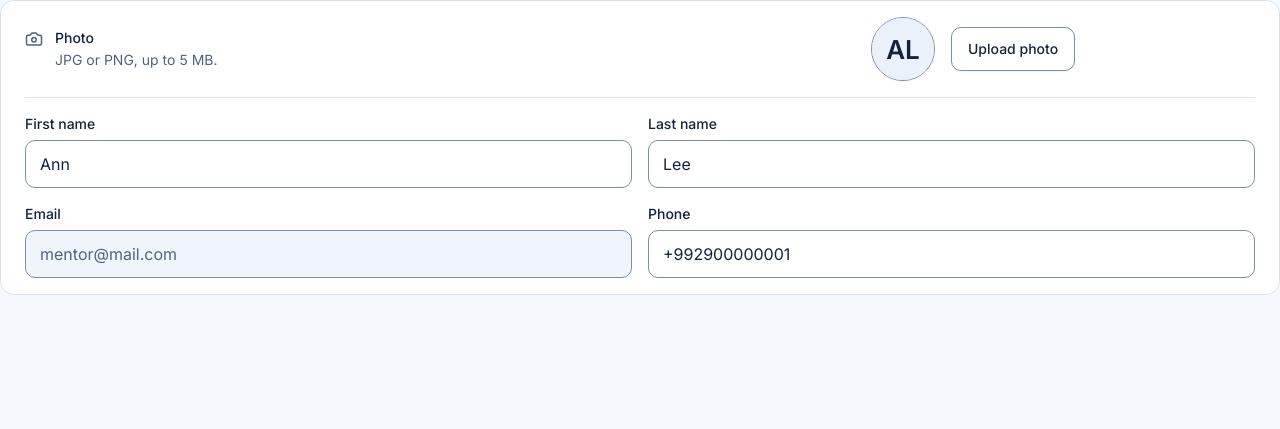
profile layout › shows the translated phone error only for an invalid value
Replace the text in the field labelled "Phone" with "123": [952, 254] box [648,230,1255,278]
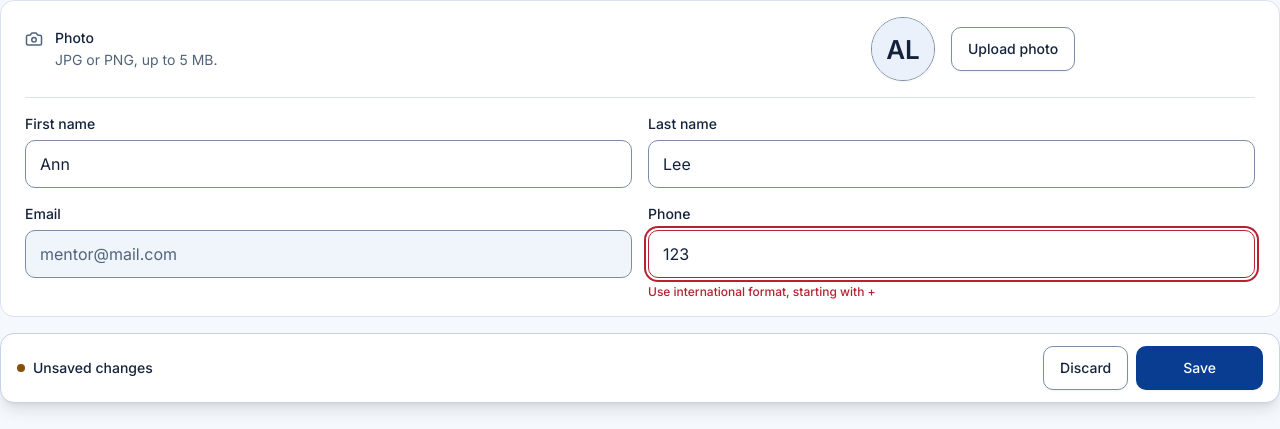
Expected: the text "Use international format, starting with +" is shown, [648,284,876,299]
